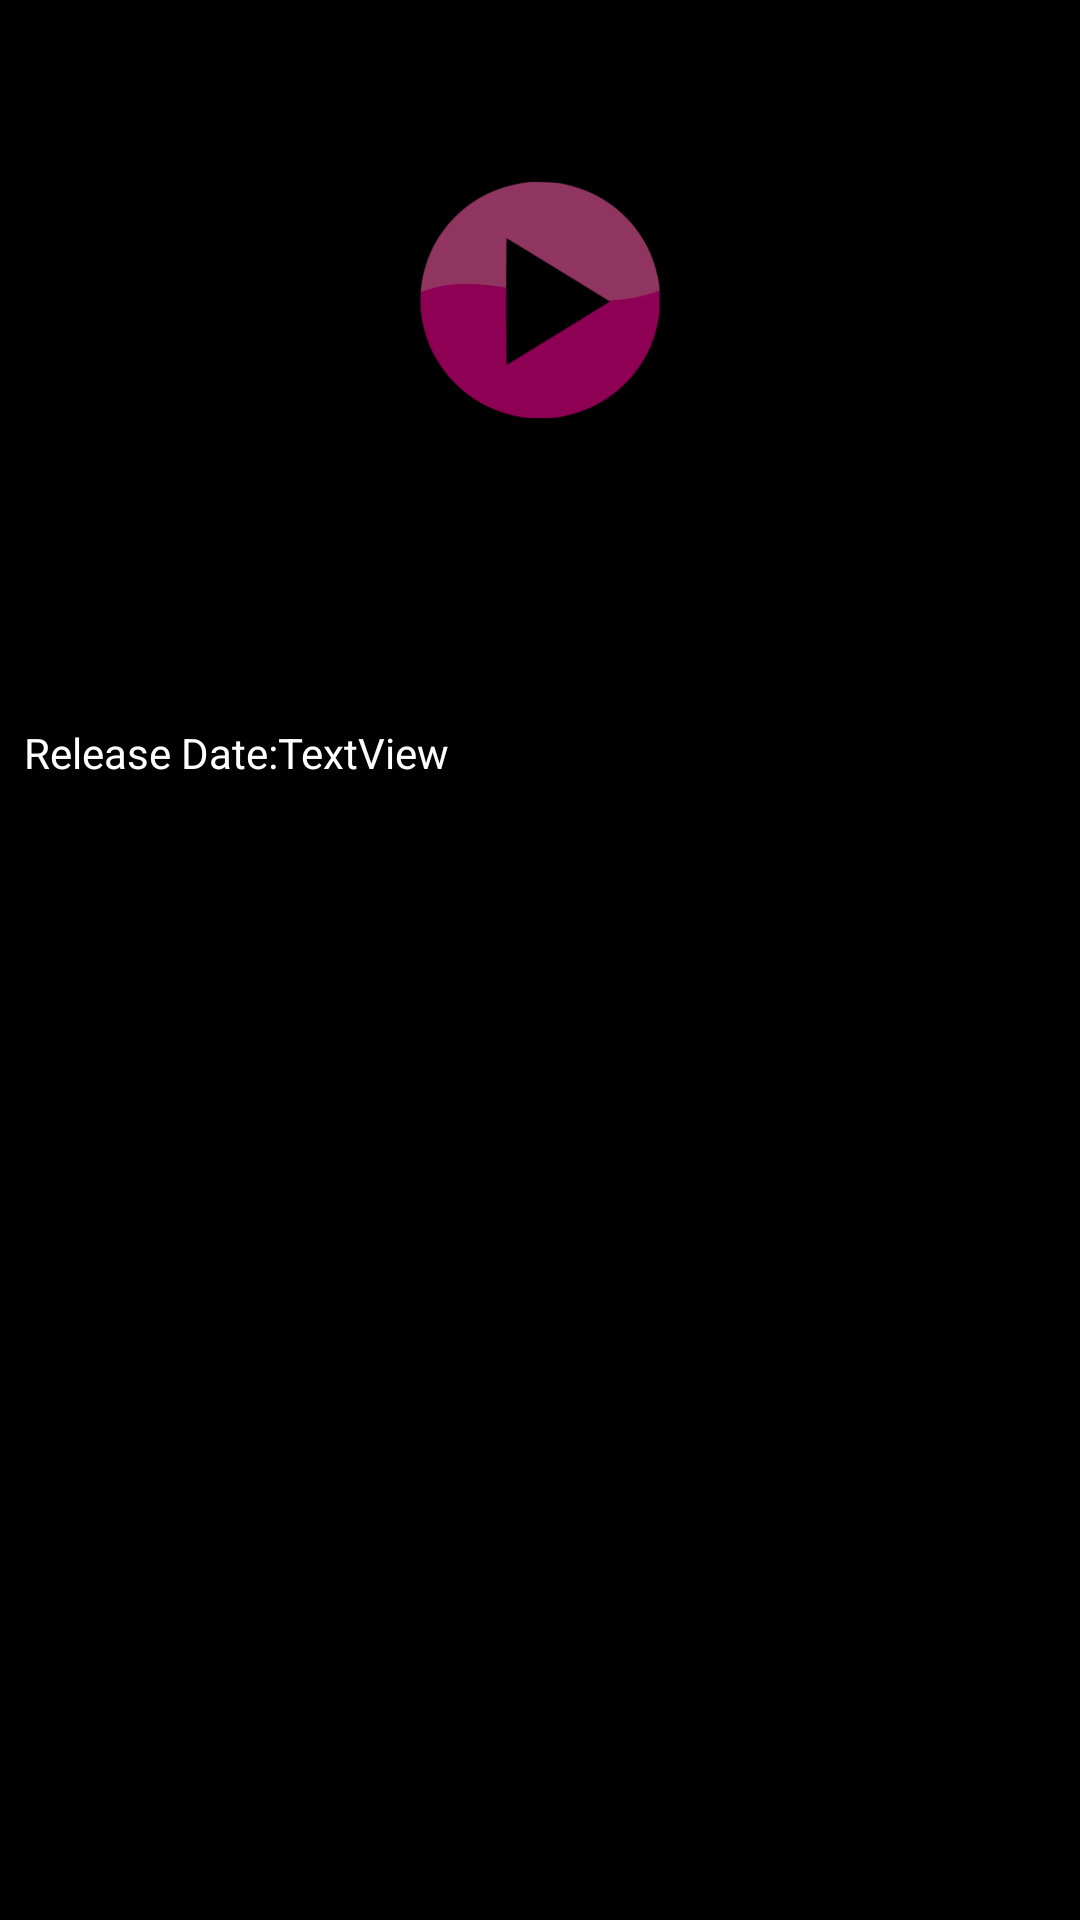

Icons on this 1080*1920 Android screen, each with the point to tap as [x,y]:
play: [540,300]
